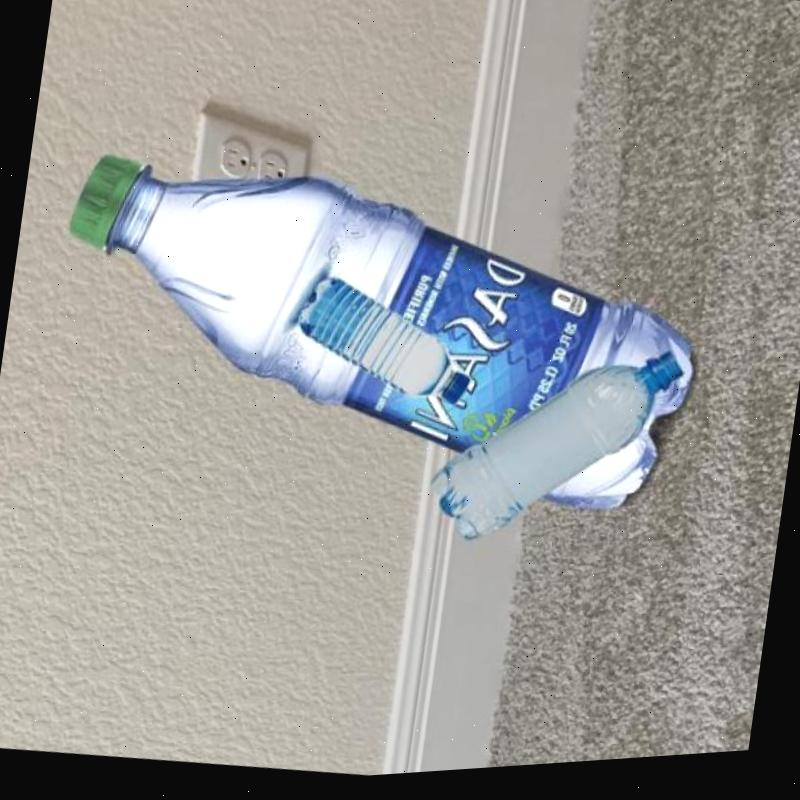botella: (31, 118, 718, 560), (423, 326, 688, 576)
